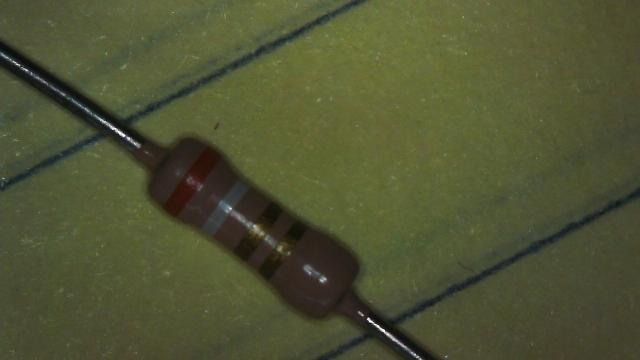gold: (234, 202, 282, 261), (269, 222, 300, 275)
orange: (164, 148, 220, 215)
resistor: (127, 105, 381, 345)
white: (201, 179, 248, 236)
